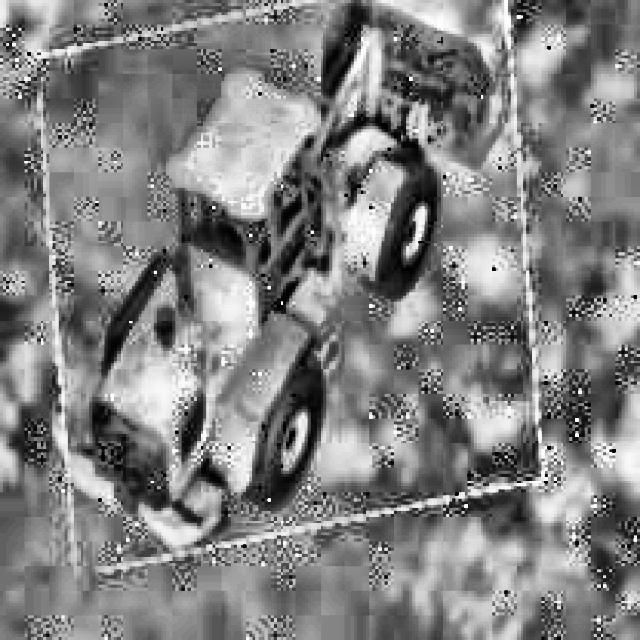buldozerpayloadergrader: (68, 0, 502, 551)
